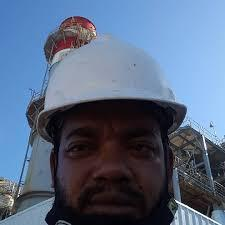helmet: (37, 33, 188, 144)
